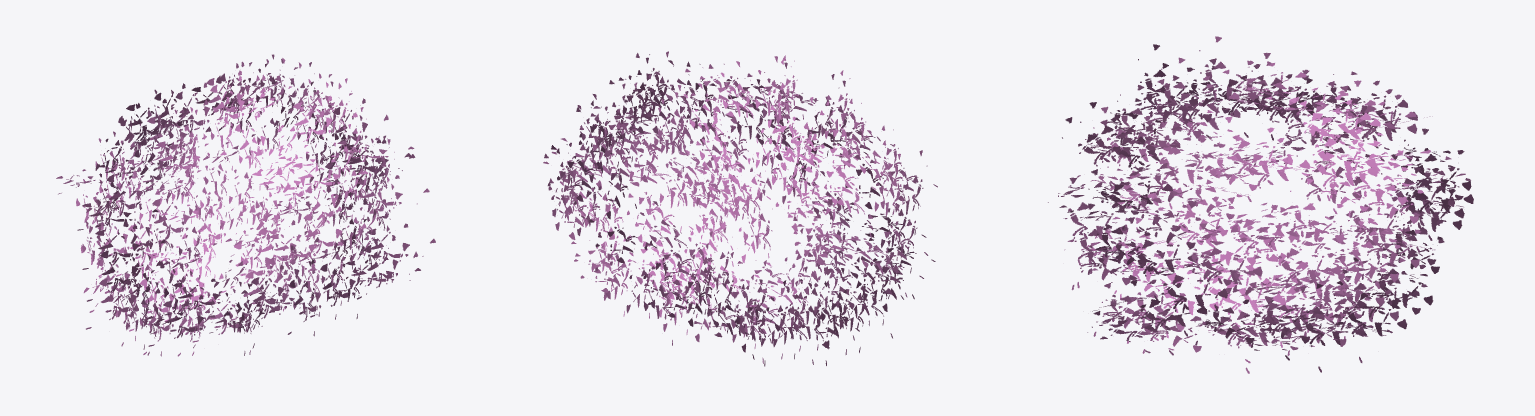
The model's file is Bush_B.fbx.
3 views of the same model, side by side, from view 1: azimuth 30°, elevation 25°; view 2: azimuth 150°, elevation 25°; view 3: azimuth 270°, elevation 25° (orthographic). The views are drawn at different scales.
Visible parts, largest first — view 1: Bush_B_LOD0; view 2: Bush_B_LOD0; view 3: Bush_B_LOD0.
Part boxes in pixels (x1=…): Bush_B_LOD0: x1=56, y1=54, x2=435, y2=356; Bush_B_LOD0: x1=543, y1=51, x2=937, y2=366; Bush_B_LOD0: x1=1048, y1=36, x2=1473, y2=373.
Bounding box in the file's own units: 3.79 × 3.69 × 3.09.
